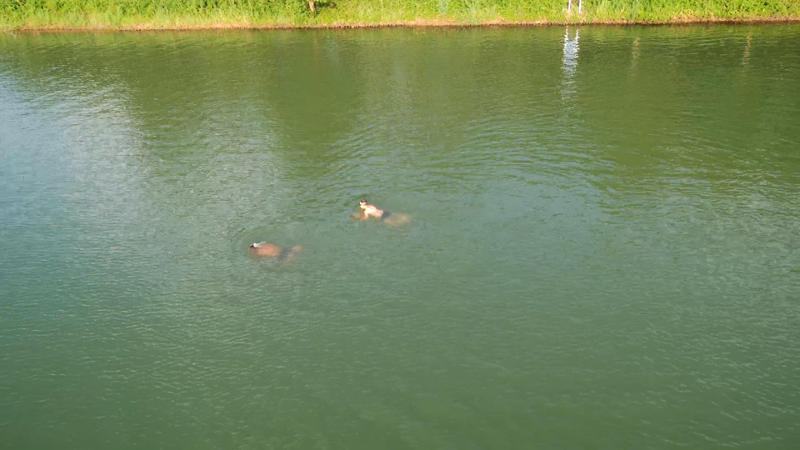swimmers: (350, 195, 417, 228), (246, 237, 305, 265)
